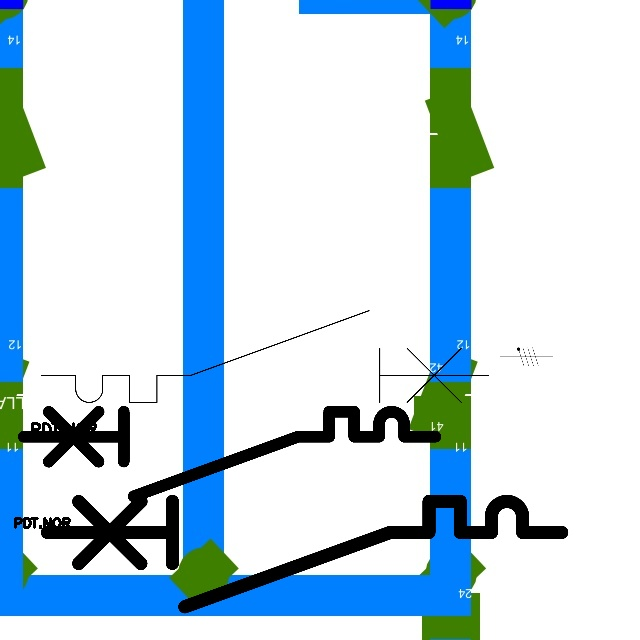interruptor_termomagnetico: (34, 488, 575, 620), (30, 299, 500, 414), (13, 401, 446, 507)
